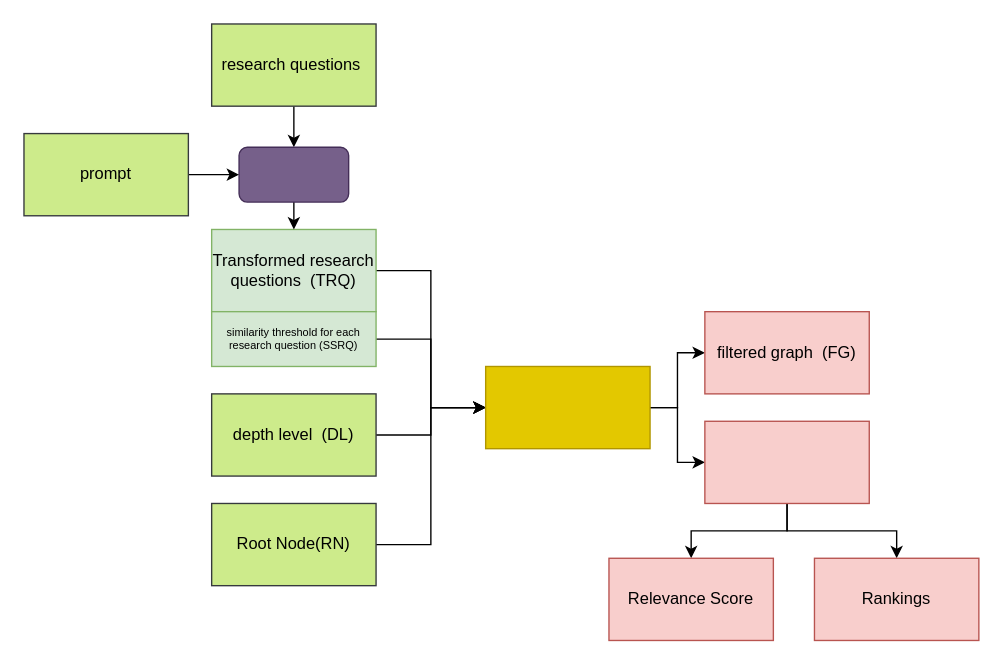
Image size: 1003x664. Some labels were removed from this diagram. The shapes that lost their labels are listed below. From the top down, each one's centre as x and y in pixels, then its label:
At (293,174): "LLM".
At (567,407): "Algorithm".
At (786,461): "A json that have for each paper".
